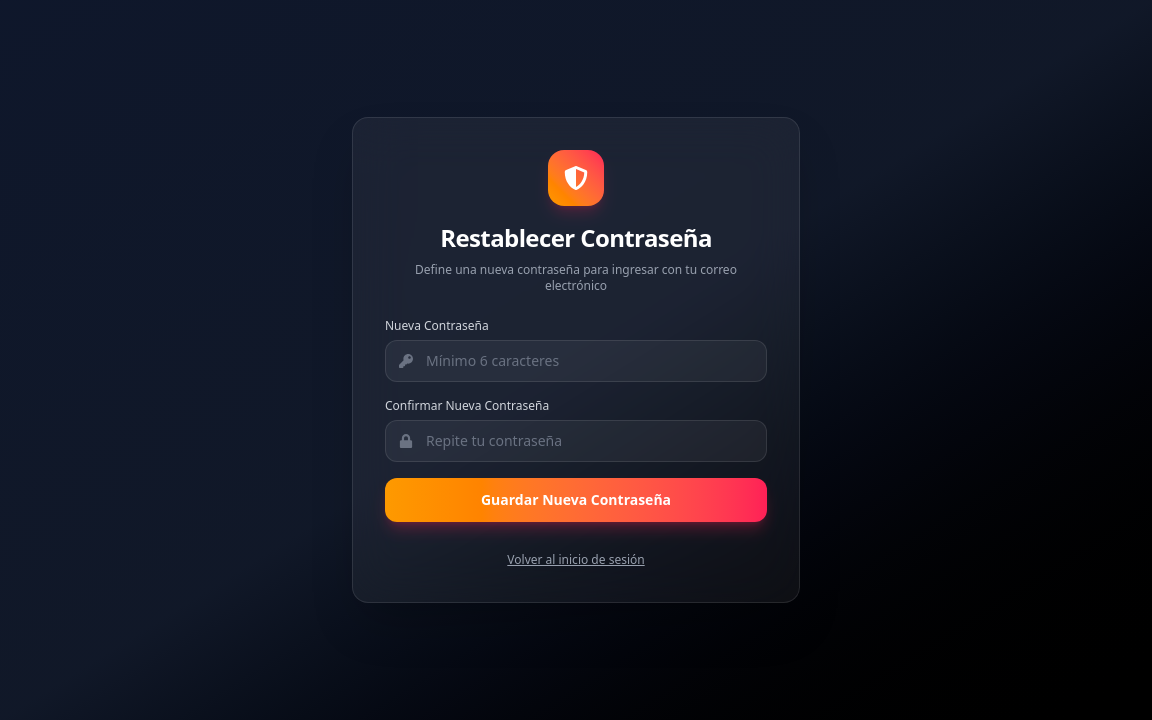
Scenario: ResetPasswordPage › exchanges PKCE code and updates user password after validation
Type "nueva123" into the password field with placeholder "Mínimo 6 caracteres" at (576, 361), box [385,340,767,382]
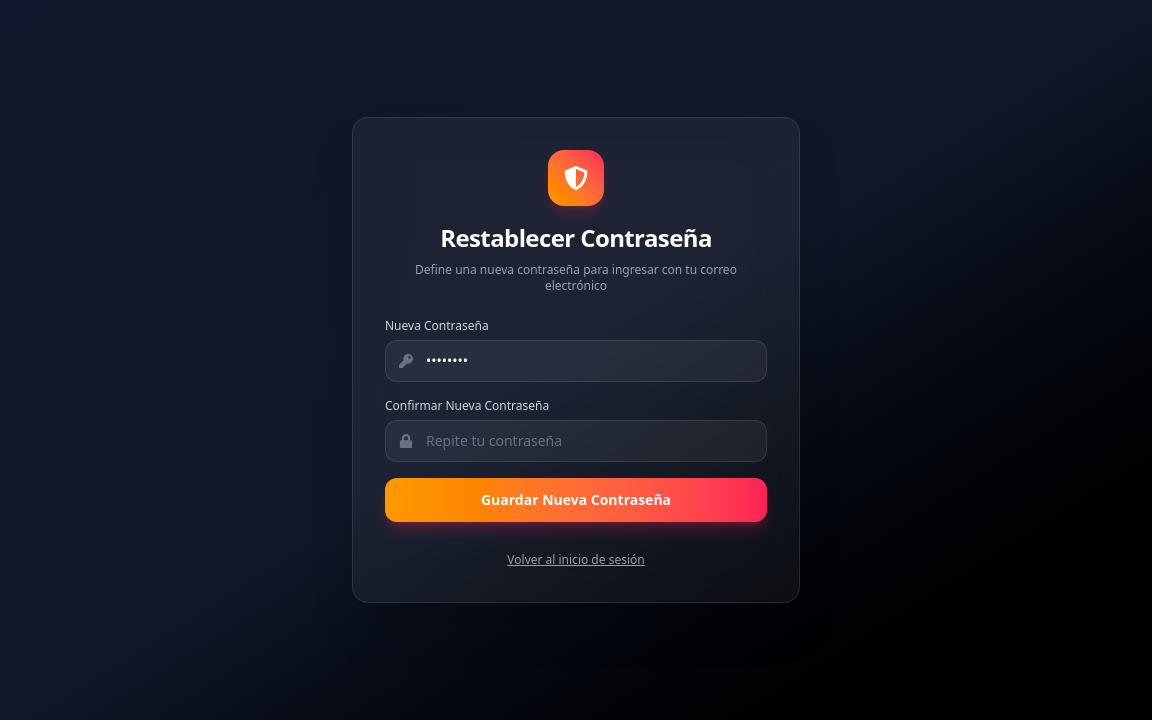
Type "distinta123" into the password field with placeholder "Repite tu contraseña" at (576, 441), box [385,420,767,462]
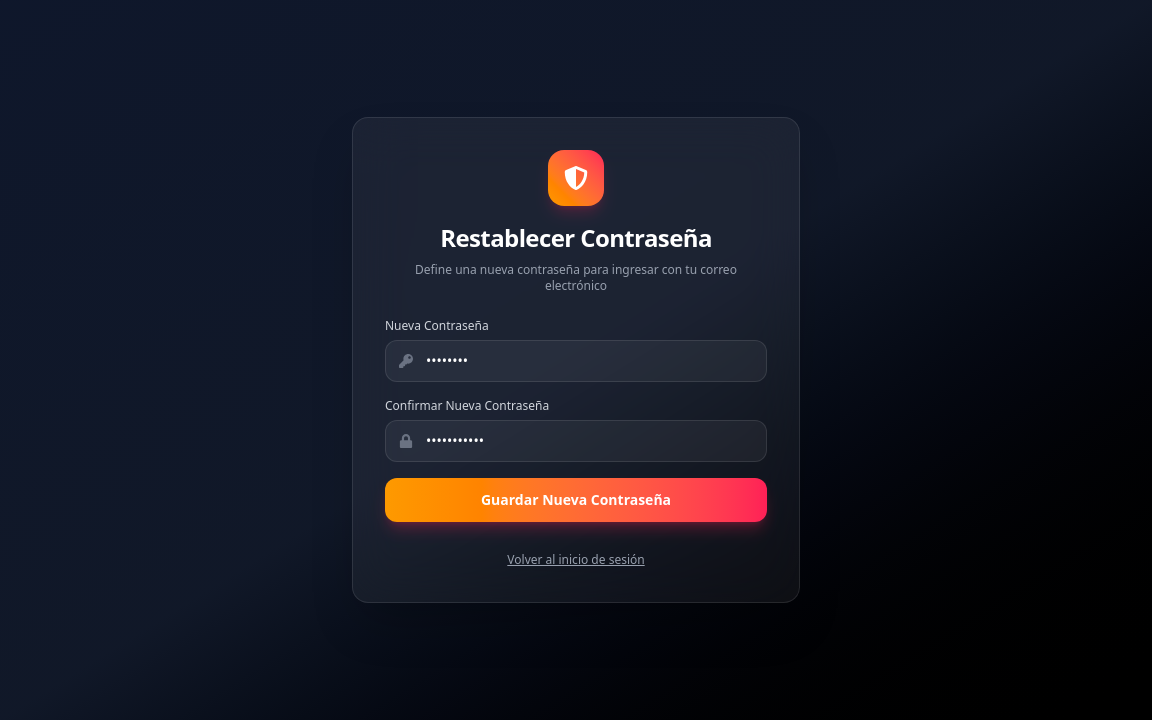
Click the button "Guardar Nueva Contraseña" at (576, 500), box [385,478,767,522]
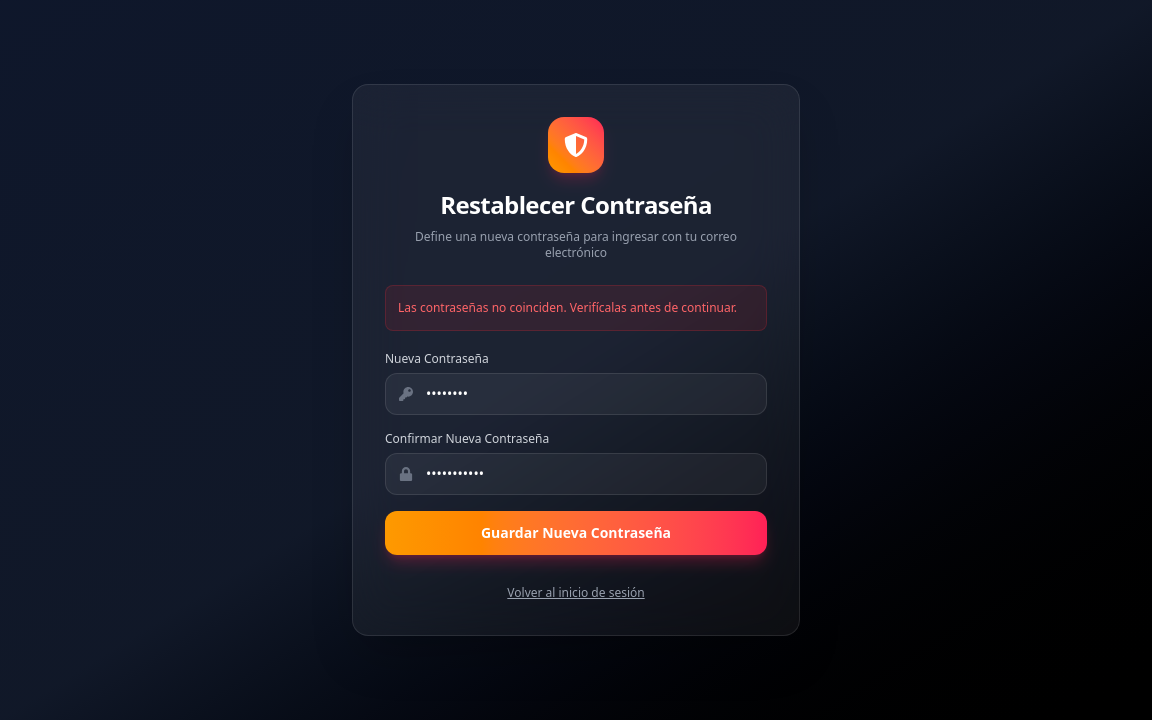
Expected: the message shows "no coinciden", [398,299,737,316]
Type "nueva123" into the password field with placeholder "Repite tu contraseña" below "Confirmar Nueva Contraseña" at (576, 474), box [385,453,767,495]
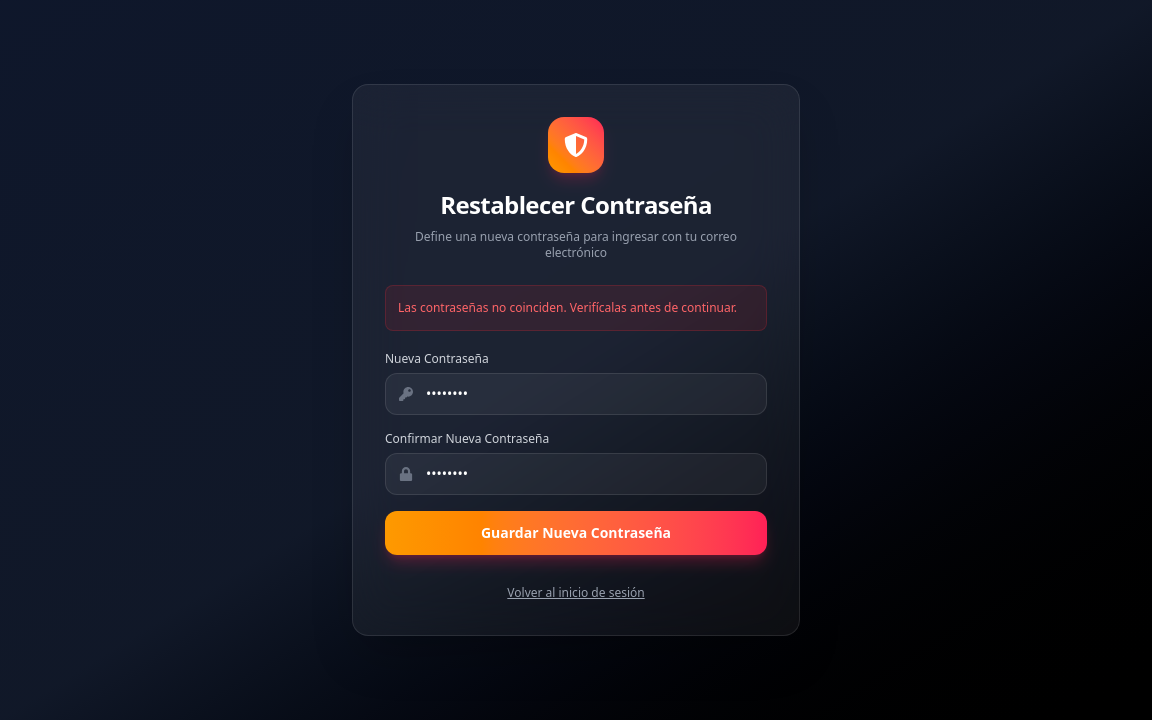
Click the button "Guardar Nueva Contraseña" at (576, 533), box [385,511,767,555]
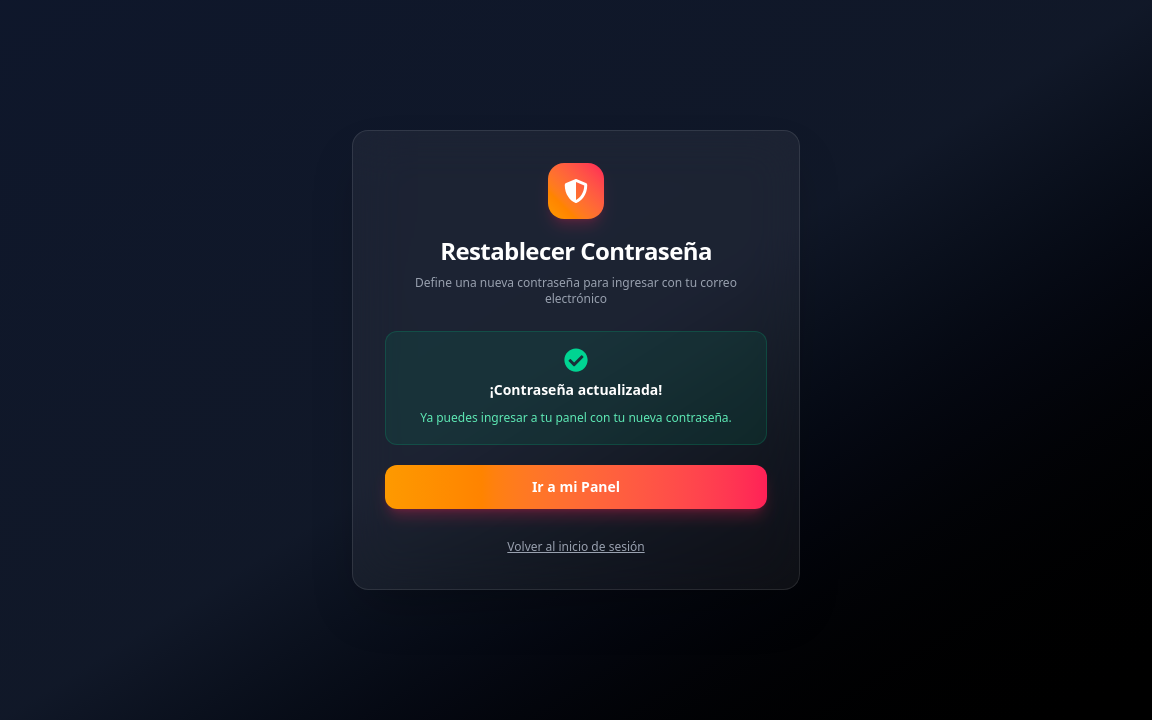
Expected: the text "¡Contraseña actualizada!" is shown, [490,380,662,400]
